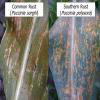Corn rust leaf: (49, 17, 99, 99), (0, 17, 49, 100)
